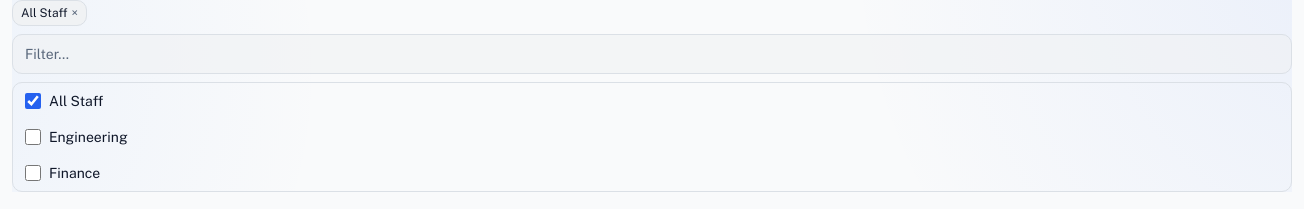
Scenario: MultiSelect › filters the list without losing what is already chosen
Type "fin" into the field with placeholder "Filter…" at x=652, y=54, box [12,34,1292,74]
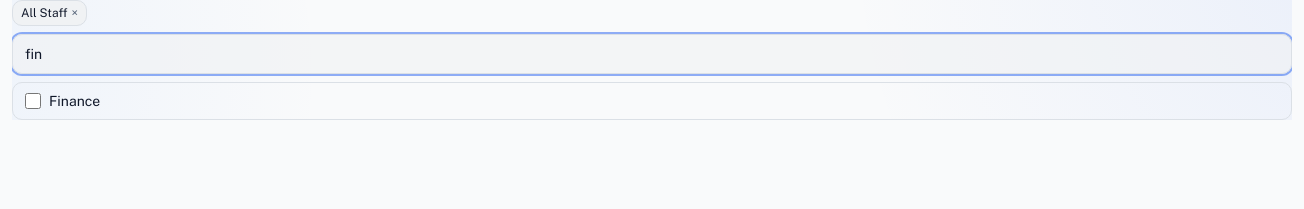
Expected: the checkbox labelled "Finance" is shown, [25,93,41,109]
Result: the label labelled "Engineering" is gone
